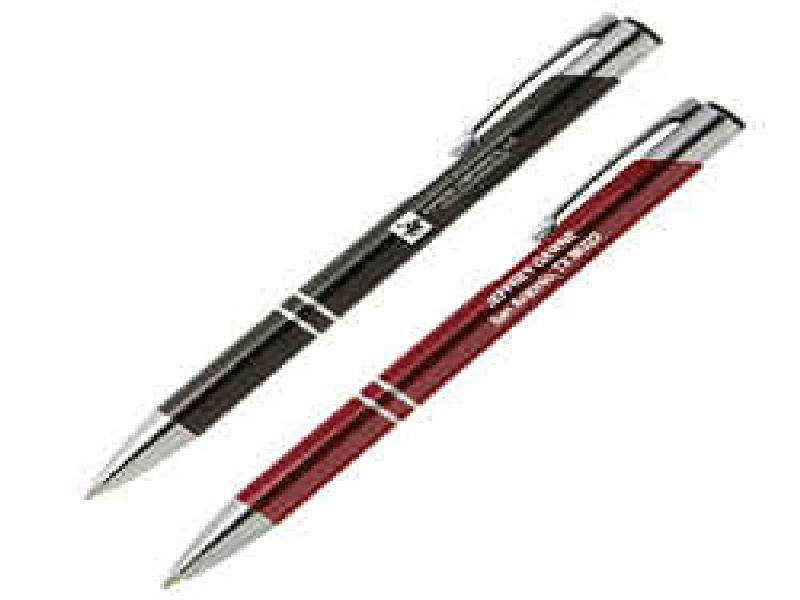pen: (85, 5, 759, 598)
